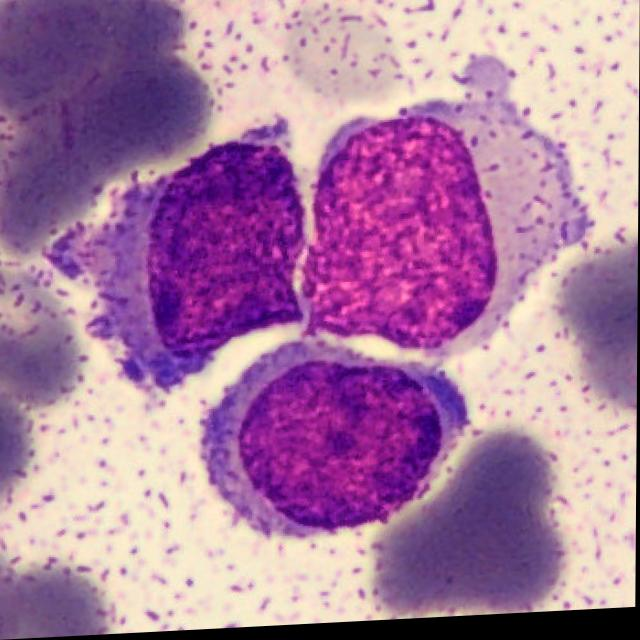Mieloblasto: (293, 61, 589, 359), (72, 125, 304, 388), (202, 338, 471, 539)
